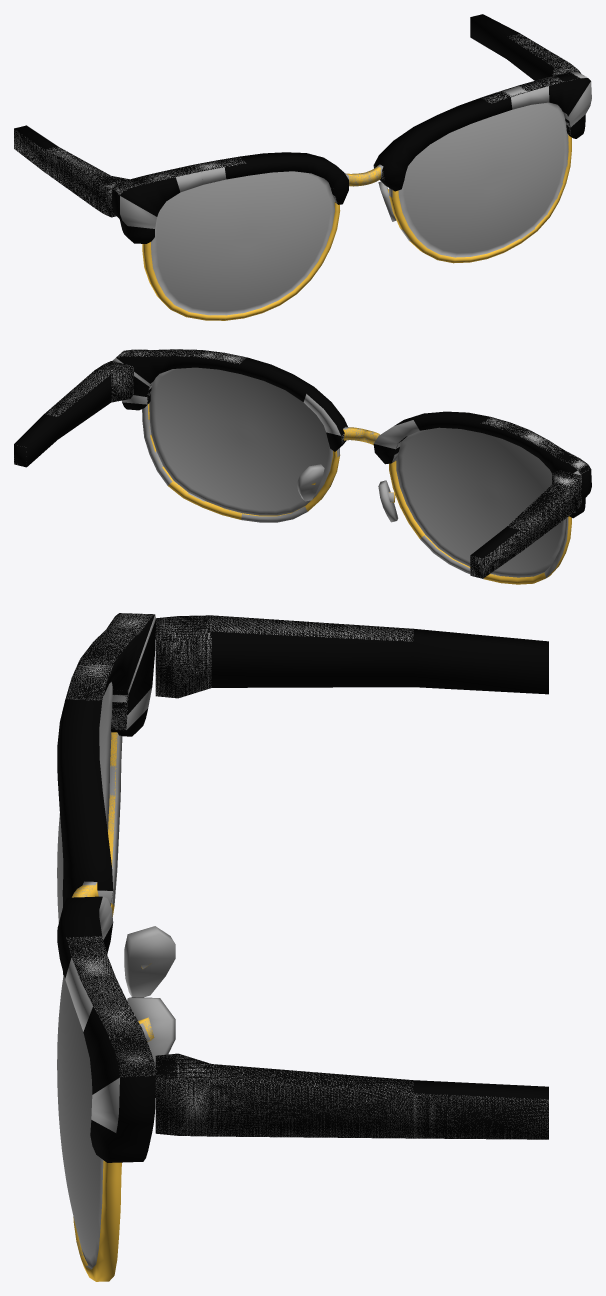
File: rb-small.obj
The picture shows the model from 3 angles, top to bottom: view 1: azimuth 30°, elevation 25°; view 2: azimuth 150°, elevation 25°; view 3: azimuth 270°, elevation 25°; orthographic projection. The views are drawn at different scales.
Parts seen in each view (by area): view 1: front_lens_Circle.001, front_black_Circle.001, back_Cube.002, front_gold_Circle.002, front_black_Circle.003, back_Cube, front_gold_Circle.001; view 2: front_lens_Circle.004, front_lens_Circle.001, front_black_Circle.001, back_Cube.002, back_Cube, front_gold_Circle.002, front_black_Circle.003, front_gold_Circle.001, front_nose_Circle.001; view 3: back_Cube.002, front_black_Circle.001, back_Cube, front_black_Circle.003, front_lens_Circle.001, front_nose_Circle.001, front_gold_Circle.002, front_gold_Circle.001, front_lens_Circle.004.
Boxes of the visible parts, x1,y1,x2,y2 form: front_lens_Circle.001: (151, 102, 567, 315); front_black_Circle.001: (112, 71, 590, 243); back_Cube.002: (14, 14, 580, 217); front_gold_Circle.002: (142, 135, 571, 320); front_black_Circle.003: (113, 71, 591, 228); back_Cube: (14, 34, 578, 216); front_gold_Circle.001: (226, 134, 568, 315); front_lens_Circle.004: (149, 375, 564, 577); front_lens_Circle.001: (158, 367, 551, 566); front_black_Circle.001: (116, 349, 591, 518); back_Cube.002: (14, 361, 581, 578); back_Cube: (14, 361, 581, 578); front_gold_Circle.002: (147, 403, 571, 584); front_black_Circle.003: (112, 349, 590, 512); front_gold_Circle.001: (142, 404, 568, 578); front_nose_Circle.001: (297, 464, 396, 522); back_Cube.002: (155, 615, 548, 1139); front_black_Circle.001: (57, 613, 155, 1162); back_Cube: (155, 615, 548, 1139); front_black_Circle.003: (65, 613, 155, 1132); front_lens_Circle.001: (57, 683, 109, 1268); front_nose_Circle.001: (124, 926, 175, 1067); front_gold_Circle.002: (72, 732, 154, 1281); front_gold_Circle.001: (73, 733, 153, 1269); front_lens_Circle.004: (58, 682, 112, 1103).
Bounding box in the file's own units: 1.98 × 0.6286 × 0.8866.
